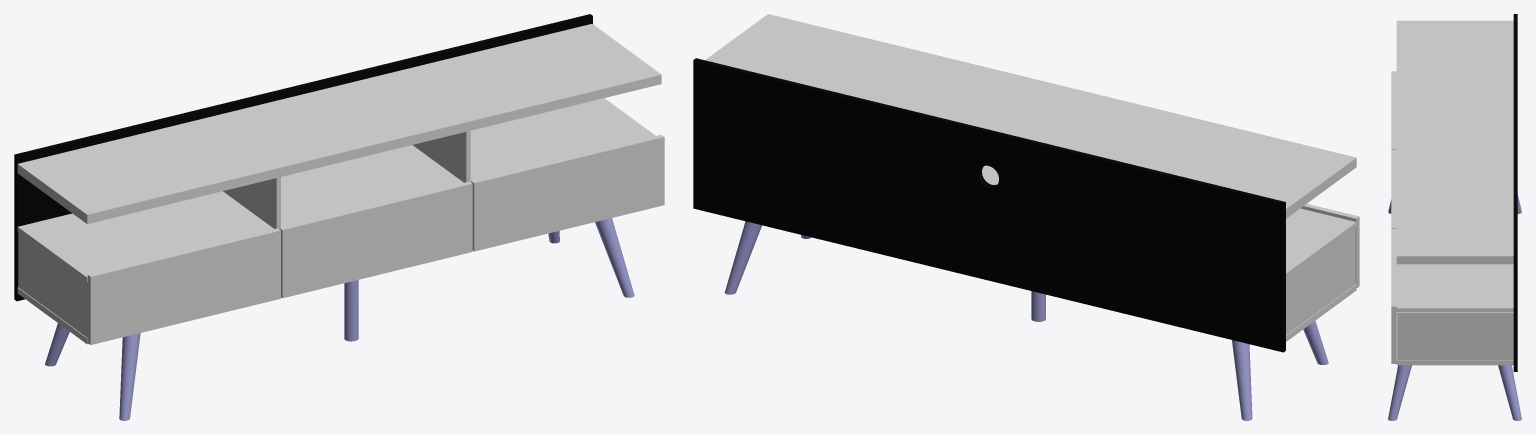
File: RackGLTF4.gltf
3 views of the same model, side by side, from view 1: azimuth 30°, elevation 25°; view 2: azimuth 150°, elevation 25°; view 3: azimuth 270°, elevation 25° (orthographic). The views are drawn at different scales.
Parts seen in each view (by area): view 1: Box001, Box002, Box008, Box010, Box009, Box003, Plane002, Box006, Box007, VIFS077, VIFS079, VIFS069; view 2: Box003, Box001, Plane002, Box002, VIFS073, VIFS075, Box008; view 3: Box001, Box002, Plane001, Box003, Box011, Box010, VIFS079, VIFS075, Box008, Box009.
Part boxes in pixels (box(x1,y1,x2,y2)): Box001: box(17, 24, 661, 224); Box002: box(17, 98, 655, 281); Box008: box(87, 228, 280, 344); Box010: box(471, 134, 664, 251); Box009: box(279, 181, 472, 298); Box003: box(14, 14, 592, 301); Plane002: box(18, 232, 87, 337); Box006: box(413, 131, 470, 182); Box007: box(223, 177, 280, 228); VIFS077: box(119, 333, 140, 420); VIFS079: box(595, 218, 634, 297); VIFS069: box(344, 280, 358, 341); Box003: box(693, 58, 1285, 352); Box001: box(705, 14, 1356, 218); Plane002: box(1286, 227, 1355, 334); Box002: box(982, 165, 1356, 277); VIFS073: box(1232, 340, 1252, 420); VIFS075: box(724, 221, 761, 294); Box008: box(1300, 204, 1359, 287); Box001: box(1396, 20, 1513, 264); Box002: box(1396, 264, 1513, 311); Plane001: box(1397, 312, 1513, 359); Box003: box(1513, 14, 1517, 371); Box011: box(1396, 312, 1513, 365); Box010: box(1391, 228, 1396, 363); VIFS079: box(1388, 365, 1411, 420); VIFS075: box(1498, 365, 1521, 420); Box008: box(1391, 71, 1396, 149); Box009: box(1391, 150, 1396, 228).
Bounding box in the file's own units: 1.02 × 0.3681 × 0.2435.
